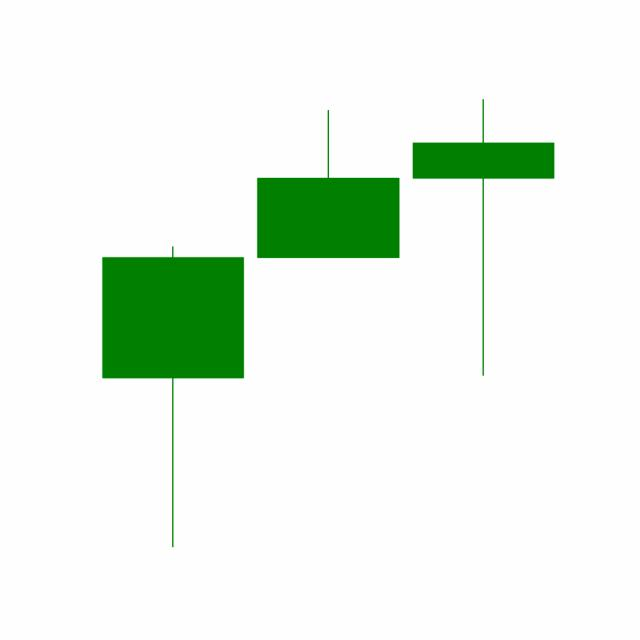Hanging Man: (405, 96, 561, 379)
